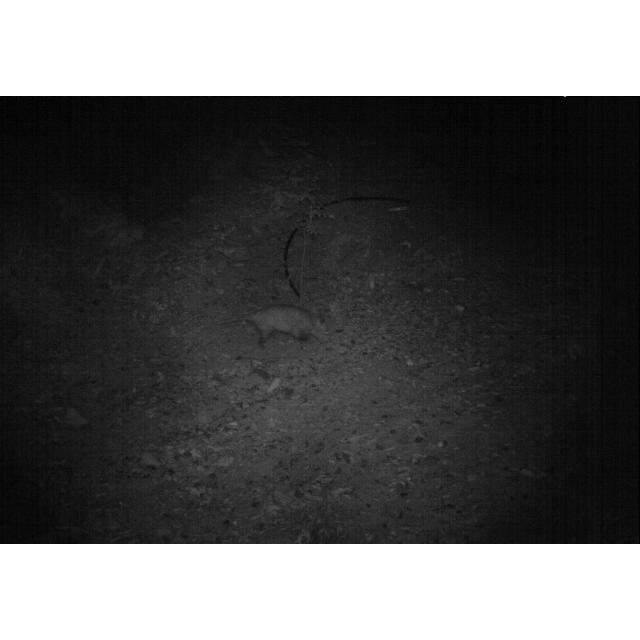animals: (236, 302, 326, 346)
